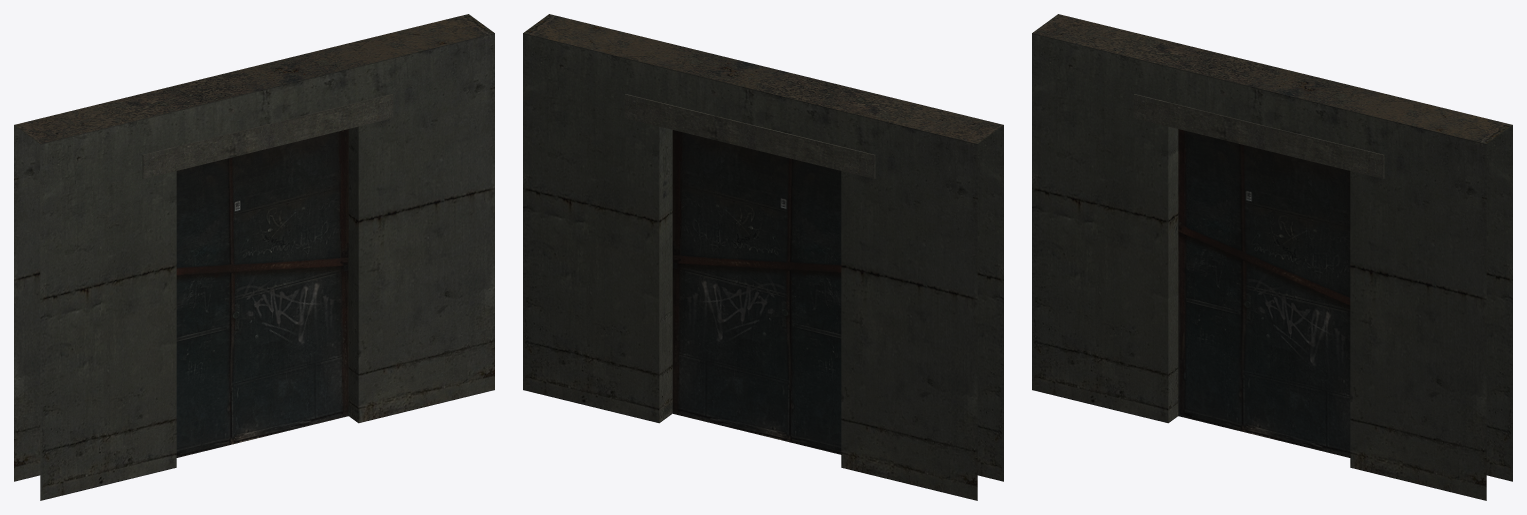
File: doorway_rg_1_wide.obj
3 renders of one model, left to right at view 1: azimuth 30°, elevation 25°; view 2: azimuth 150°, elevation 25°; view 3: azimuth 330°, elevation 25°, orthographic.
Parts seen in each view (by area): view 1: doorway_rg_1_wide, door_hm_1_piece_2.001, door_hm_1_piece_1.001; view 2: doorway_rg_1_wide, door_hm_1_piece_2.001, door_hm_1_piece_1.001; view 3: doorway_rg_1_wide, door_hm_1_piece_2.001, door_hm_1_piece_1.001.
Part boxes in pixels (left/top/right/bottom): doorway_rg_1_wide: left=14, top=14, right=494, bottom=500; door_hm_1_piece_2.001: left=235, top=129, right=348, bottom=443; door_hm_1_piece_1.001: left=176, top=157, right=234, bottom=457; doorway_rg_1_wide: left=523, top=14, right=1003, bottom=500; door_hm_1_piece_2.001: left=672, top=130, right=786, bottom=441; door_hm_1_piece_1.001: left=786, top=157, right=841, bottom=454; doorway_rg_1_wide: left=1032, top=14, right=1512, bottom=500; door_hm_1_piece_2.001: left=1246, top=145, right=1350, bottom=457; door_hm_1_piece_1.001: left=1178, top=129, right=1246, bottom=432.
Size of the model in its own units: 4 by 3 by 0.42.
